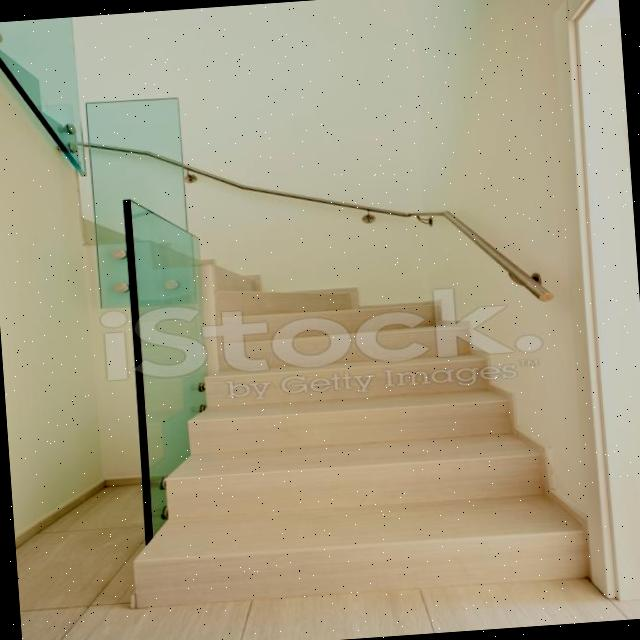stairs: (105, 234, 592, 610)
